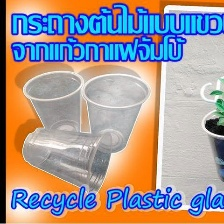glass: (18, 124, 118, 197), (81, 68, 154, 159), (18, 66, 85, 143)
